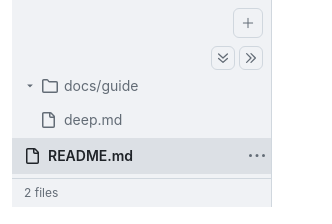
Test case: Sidebar › collapses and expands all directories in tree view
Expected: the text "deep.md" is shown, [64,111,122,128]
Step 1. Click the button named "Collapse all" → x=251, y=58, box [239,46,263,70]
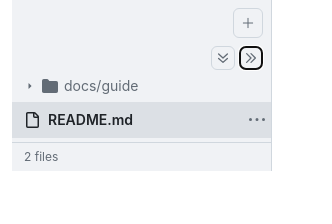
Expected: the link "deep.md" is gone
Step 2. Click the button named "Expand all" → x=223, y=58, box [211,46,235,70]
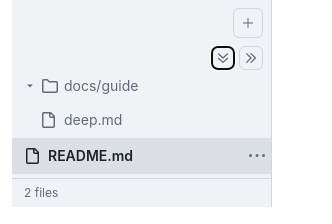
Expected: the text "deep.md" is shown, [64,111,122,128]
